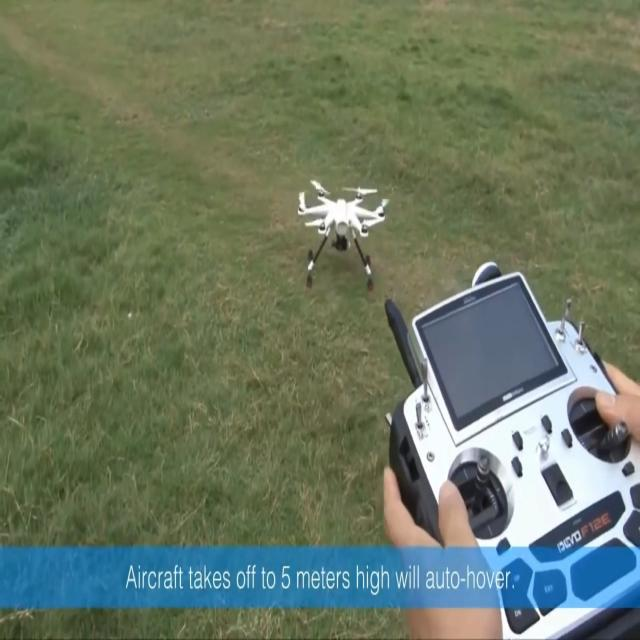drone: (297, 178, 390, 292)
